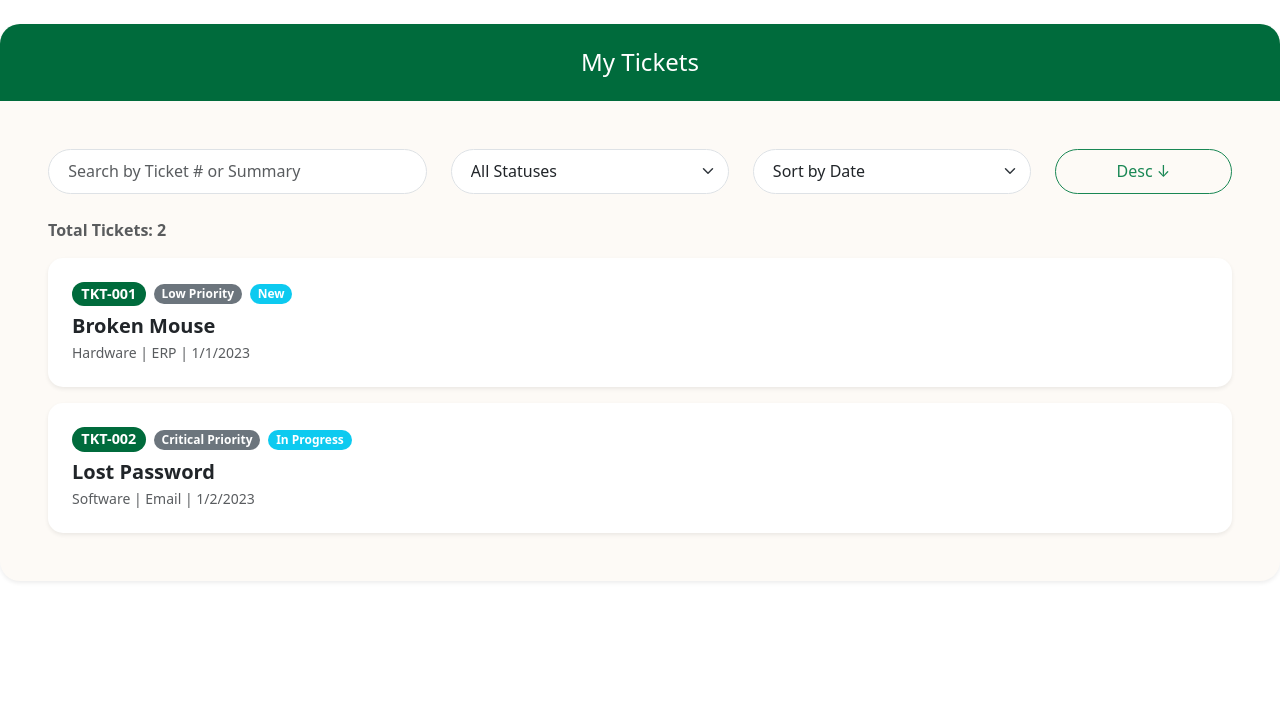
Test: MyTickets › searches for tickets
Expected: the heading "Broken Mouse" is shown, x1=72 y1=312 x2=215 y2=340
Type "Lost" into the field with placeholder "Search by Ticket # or Summary". click: (237,171)
box: x1=48 y1=149 x2=427 y2=194
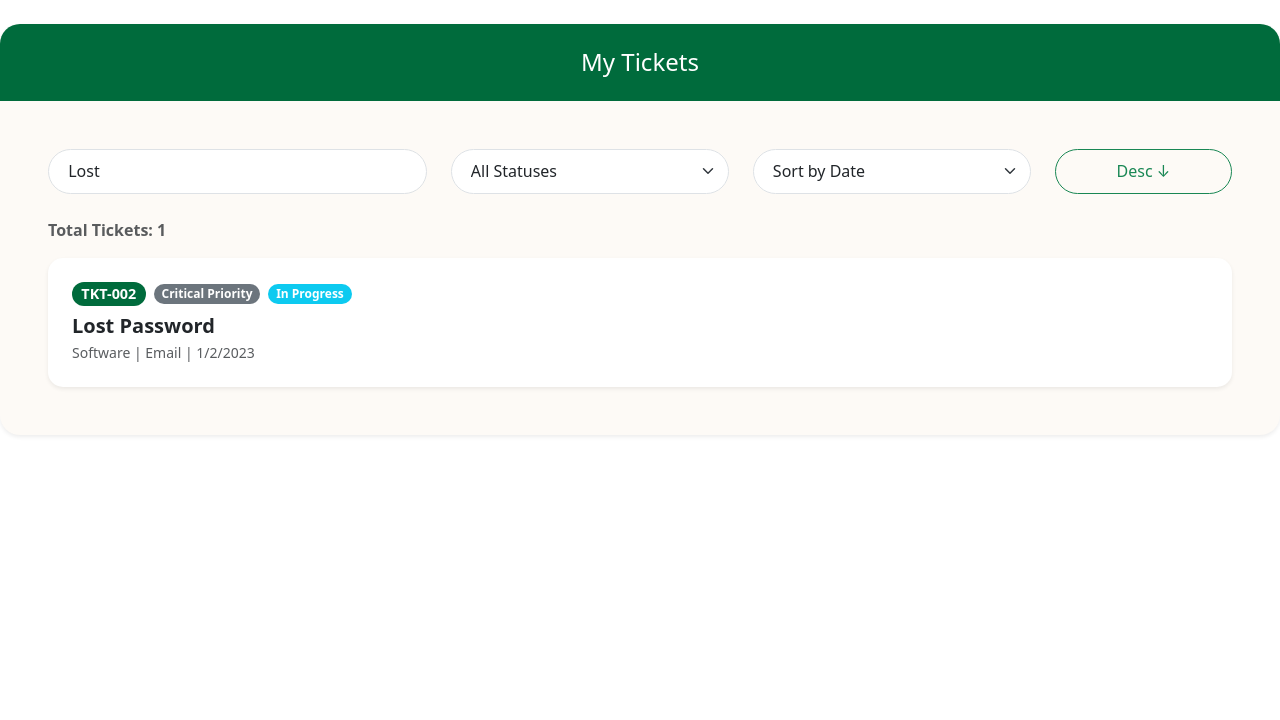
Expected: the heading "Lost Password" is shown, x1=72 y1=312 x2=215 y2=340
Now the heading "Broken Mouse" is gone
